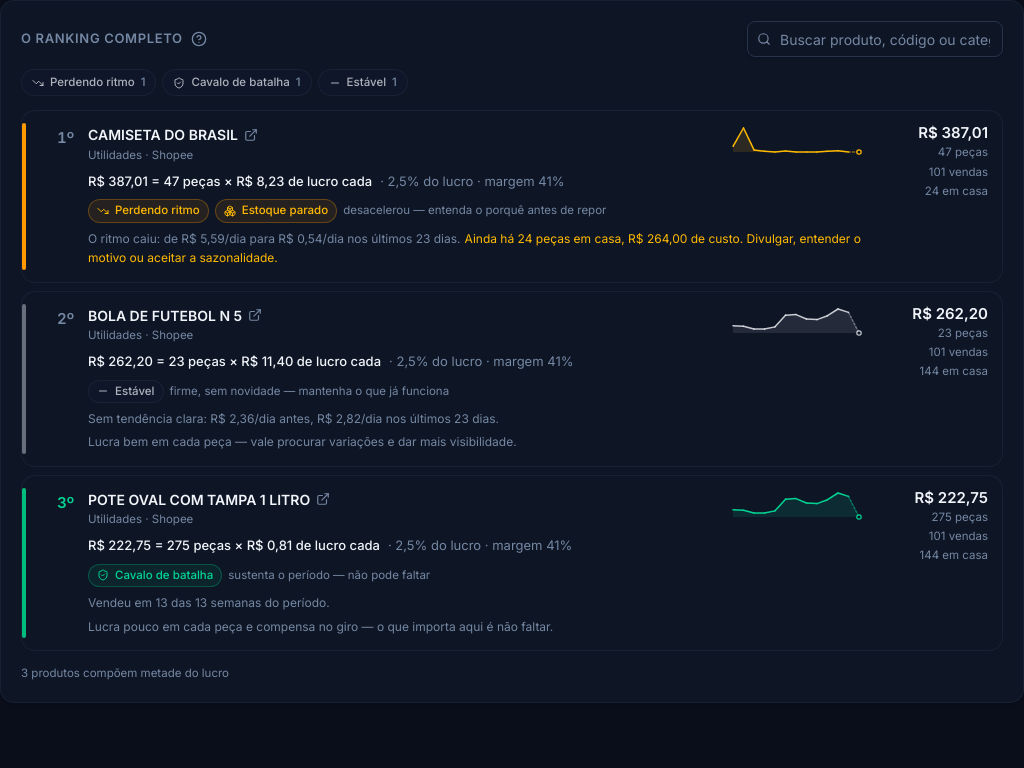
Test: ProfitRanking › o ? do cartao ensina a ler a multiplicacao da linha
Click the button named "O que é O ranking completo": x=199, y=39 [187,27,211,51]
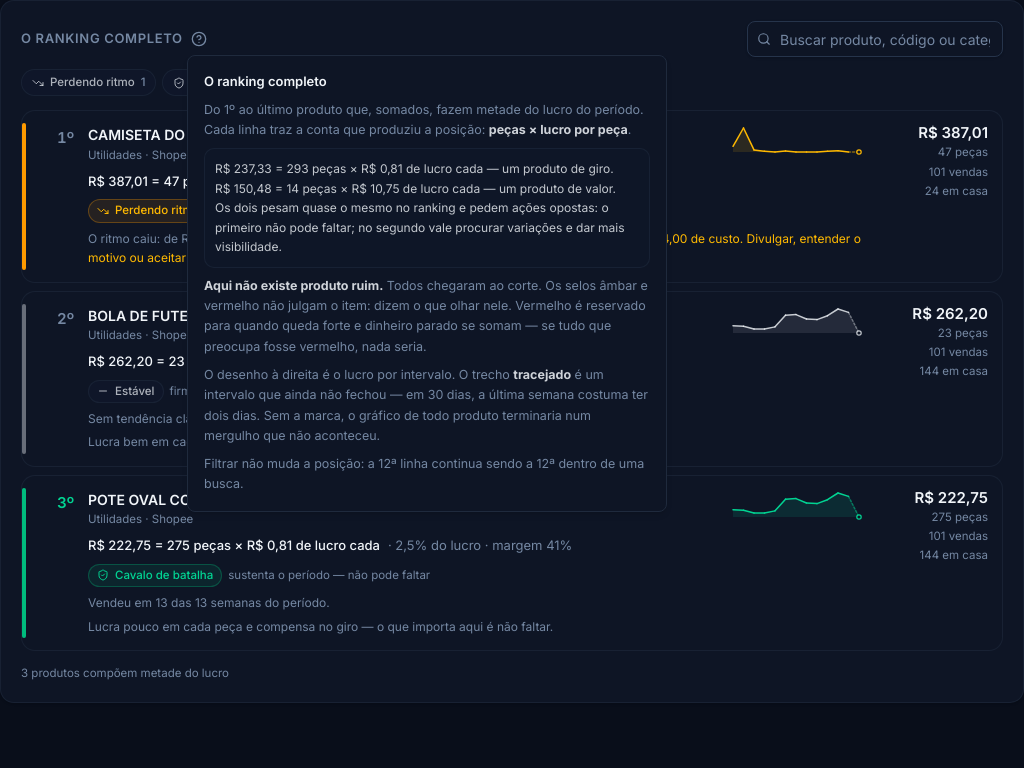
Expected: the text "peças × lucro por peça" is shown, [489,122,628,137]
Expected: the text "Aqui não existe produto ruim." is shown, [204,278,383,293]
